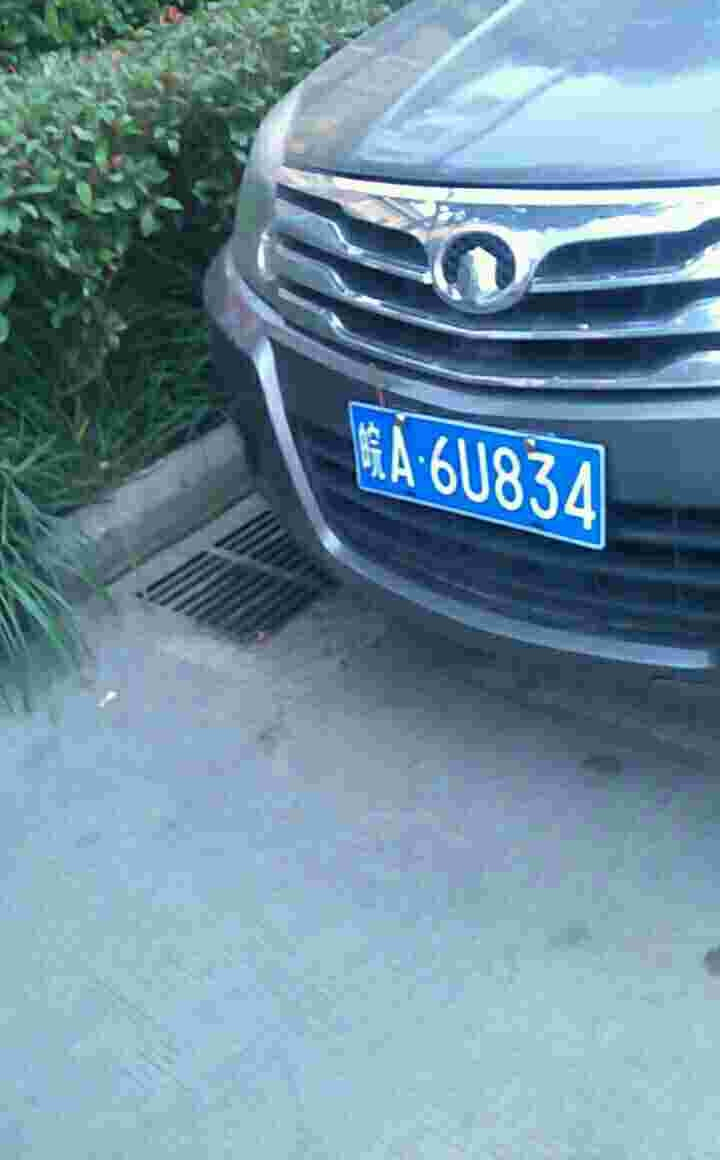license_plate: (344, 396, 601, 554)
